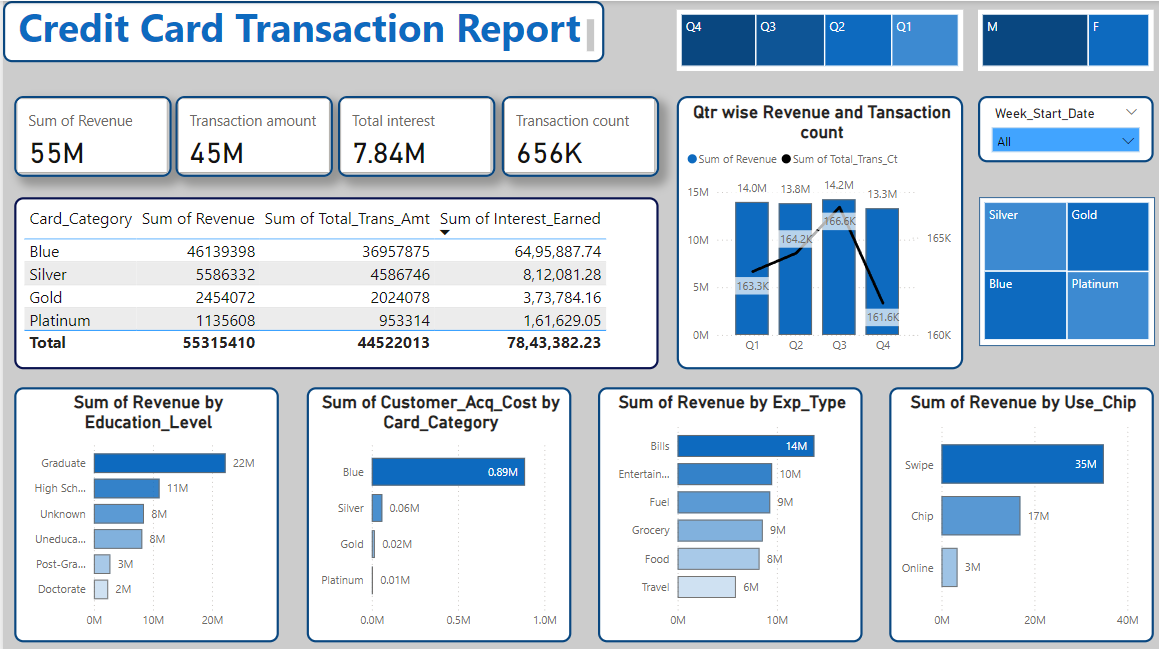

This screenshot's page, from the dashboard's own definition file:
{"tool":"powerbi","page":{"name":"Page 2","canvas":[1280,720],"ordinal":1},"visuals":[{"type":"textbox","box":[0,0,660,67.1],"z":0},{"type":"tableEx","title":"Qtr wise Revenue and Transaction Count","fields":{"Values":["ccdb cc_detail.Card_Category","Sum(ccdb cc_detail.Revenue)","Sum(ccdb cc_detail.Total_Trans_Amt)","Sum(ccdb cc_detail.Interest_Earned)"]},"box":[12.9,215.7,707.1,188.6],"z":1000},{"type":"barChart","fields":{"Y":["Sum(ccdb cc_detail.Revenue)"],"Category":["ccdb cust_detail.Education_Level"]},"box":[12.9,424.3,290,280],"z":2000},{"type":"barChart","fields":{"Category":["ccdb cc_detail.Card_Category"],"Y":["Sum(ccdb cc_detail.Customer_Acq_Cost)"]},"box":[332.9,424.3,290,280],"z":3000},{"type":"barChart","fields":{"Y":["Sum(ccdb cc_detail.Revenue)"],"Category":["ccdb cc_detail.Exp_Type"]},"box":[652.9,424.3,290,280],"z":4000},{"type":"barChart","fields":{"Y":["Sum(ccdb cc_detail.Revenue)"],"Category":["ccdb cc_detail.Use_Chip"]},"box":[972.9,424.3,290,280],"z":5000},{"type":"lineStackedColumnComboChart","title":"Qtr wise Revenue and Tansaction count","fields":{"Category":["ccdb cc_detail.Qtr"],"Y":["Sum(ccdb cc_detail.Revenue)"],"Y2":["Sum(ccdb cc_detail.Total_Trans_Ct)"]},"box":[740,104.3,314.3,300],"z":6000},{"type":"cardVisual","fields":{"Data":["Sum(ccdb cc_detail.Revenue)"]},"box":[12.9,104.3,172.9,88.6],"z":7000},{"type":"cardVisual","fields":{"Data":["Sum(ccdb cc_detail.Total_Trans_Amt)"]},"box":[190,104.3,173,88.6],"z":8000},{"type":"cardVisual","fields":{"Data":["Sum(ccdb cc_detail.Interest_Earned)"]},"box":[367.1,104.3,172.9,88.6],"z":9000},{"type":"cardVisual","fields":{"Data":["Sum(ccdb cc_detail.Total_Trans_Ct)"]},"box":[547.1,104.3,172.9,88.6],"z":10000},{"type":"treemap","fields":{"Group":["ccdb cc_detail.Qtr"],"Values":["Avg(ccdb cc_detail.Client_Num)"]},"box":[740,10,314.3,67.1],"z":11000},{"type":"treemap","fields":{"Group":["ccdb cust_detail.Gender"],"Values":["Avg(ccdb cc_detail.Total_Trans_Amt)"]},"box":[1070,10,192.9,67.1],"z":12000},{"type":"slicer","fields":{"Values":["ccdb cc_detail.Week_Start_Date"]},"box":[1070,104.3,192.9,72.9],"z":13000},{"type":"treemap","fields":{"Group":["ccdb cc_detail.Card_Category"],"Values":["Avg(ccdb cc_detail.Client_Num)"]},"box":[1071.4,215.7,192.9,162.9],"z":14000}]}

Visuals, with their boxes in screenshot pixels (x1, y1, x2, y2), scaled from the page's 1280x720 canvas onto the 1159x649 screenshot:
textbox: (left=0, top=0, right=598, bottom=60)
"Qtr wise Revenue and Transaction Count" tableEx: (left=12, top=194, right=652, bottom=364)
barChart - Sum(ccdb cc_detail.Revenue) x ccdb cust_detail.Education_Level: (left=12, top=382, right=274, bottom=635)
barChart - ccdb cc_detail.Card_Category x Sum(ccdb cc_detail.Customer_Acq_Cost): (left=301, top=382, right=564, bottom=635)
barChart - Sum(ccdb cc_detail.Revenue) x ccdb cc_detail.Exp_Type: (left=591, top=382, right=854, bottom=635)
barChart - Sum(ccdb cc_detail.Revenue) x ccdb cc_detail.Use_Chip: (left=881, top=382, right=1144, bottom=635)
"Qtr wise Revenue and Tansaction count" lineStackedColumnComboChart: (left=670, top=94, right=955, bottom=364)
cardVisual - Sum(ccdb cc_detail.Revenue): (left=12, top=94, right=168, bottom=174)
cardVisual - Sum(ccdb cc_detail.Total_Trans_Amt): (left=172, top=94, right=329, bottom=174)
cardVisual - Sum(ccdb cc_detail.Interest_Earned): (left=332, top=94, right=489, bottom=174)
cardVisual - Sum(ccdb cc_detail.Total_Trans_Ct): (left=495, top=94, right=652, bottom=174)
treemap - ccdb cc_detail.Qtr x Avg(ccdb cc_detail.Client_Num): (left=670, top=9, right=955, bottom=69)
treemap - ccdb cust_detail.Gender x Avg(ccdb cc_detail.Total_Trans_Amt): (left=969, top=9, right=1144, bottom=69)
slicer - ccdb cc_detail.Week_Start_Date: (left=969, top=94, right=1144, bottom=160)
treemap - ccdb cc_detail.Card_Category x Avg(ccdb cc_detail.Client_Num): (left=970, top=194, right=1145, bottom=341)
